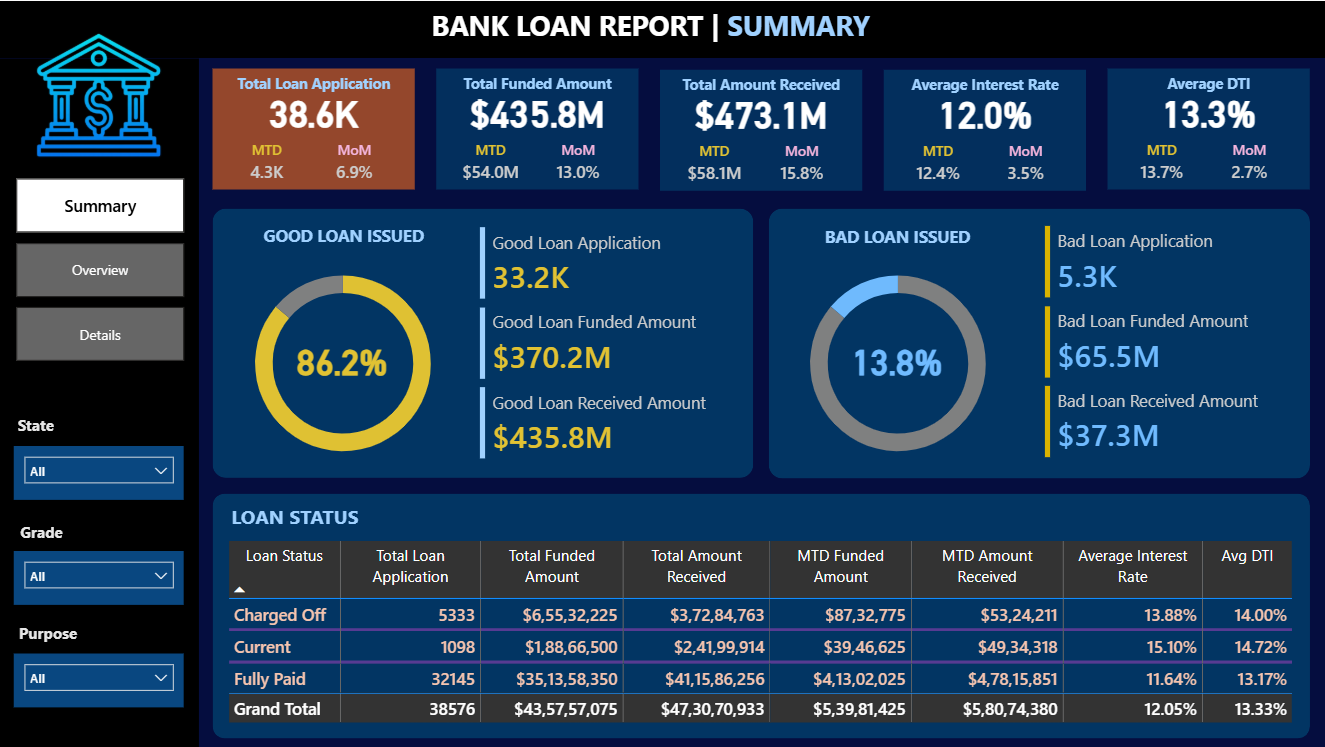

The dashboard page shown, as its layout file describes it:
{"tool":"powerbi","page":{"name":"Summary","canvas":[1280,720],"ordinal":0},"visuals":[{"type":"shape","box":[0,55.5,192,664.7],"z":0},{"type":"shape","box":[0,0,1280.3,55],"z":1000},{"type":"textbox","box":[411.4,0,437.9,55.5],"z":2000},{"type":"shape","box":[205.1,65.1,195.4,117],"z":3000,"group":"g3"},{"type":"shape","box":[421,65.1,195.4,117],"z":3000,"group":"g2"},{"type":"shape","box":[1068.9,65.1,195.4,117],"z":3000,"group":"g6"},{"type":"shape","box":[637,66.4,195.4,117],"z":3000,"group":"g4"},{"type":"shape","box":[853,66.4,195.4,117],"z":3000,"group":"g5"},{"type":"shape","box":[205.1,200.3,522,260],"z":3000},{"type":"card","fields":{"Values":["financial_loan bank_loan_data.Total Loan Application"]},"box":[205.1,79.6,195.4,53.1],"z":4000,"group":"g3"},{"type":"card","fields":{"Values":["financial_loan bank_loan_data.Total Funded Amount"]},"box":[421,79.6,195.4,53.1],"z":4000,"group":"g2"},{"type":"card","fields":{"Values":["financial_loan bank_loan_data.Avg DTI"]},"box":[1068.9,79.6,195.4,53.1],"z":4000,"group":"g6"},{"type":"card","fields":{"Values":["financial_loan bank_loan_data.Total Amount Received"]},"box":[637,80.9,195.4,53.1],"z":4000,"group":"g4"},{"type":"card","fields":{"Values":["financial_loan bank_loan_data.Average Interest Rate"]},"box":[853,80.9,195.4,53.1],"z":4000,"group":"g5"},{"type":"card","fields":{"Values":["financial_loan bank_loan_data.Good Loan %"]},"box":[263,319.7,133.9,53.1],"z":4000},{"type":"group","id":"g1","title":"Group 1","box":[205.1,65.1,195.4,117],"z":5000},{"type":"textbox","box":[218.4,65.1,168.9,29],"z":5000,"group":"g3"},{"type":"textbox","box":[434.3,65.1,168.9,29],"z":5000,"group":"g2"},{"type":"textbox","box":[1082.2,65.1,168.9,29],"z":5000,"group":"g6"},{"type":"textbox","box":[650.3,66.4,168.9,29],"z":5000,"group":"g4"},{"type":"textbox","box":[866.3,66.4,168.9,29],"z":5000,"group":"g5"},{"type":"group","id":"g2","title":"Group 3","box":[421,65.1,195.4,117],"z":6000},{"type":"card","title":"MTD","fields":{"Values":["financial_loan bank_loan_data.MTD Loan Application"]},"box":[218.4,133.9,78.4,48.3],"z":6000,"group":"g3"},{"type":"card","title":"MTD","fields":{"Values":["financial_loan bank_loan_data.MTD Funded Amount"]},"box":[434.3,133.9,78.4,48.3],"z":6000,"group":"g2"},{"type":"card","title":"MTD","fields":{"Values":["financial_loan bank_loan_data.MTD DTI"]},"box":[1082.2,133.9,78.4,48.3],"z":6000,"group":"g6"},{"type":"card","title":"MTD","fields":{"Values":["financial_loan bank_loan_data.MTD Amount Received"]},"box":[650.3,135.2,78.4,48.3],"z":6000,"group":"g4"},{"type":"card","title":"MTD","fields":{"Values":["financial_loan bank_loan_data.MTD Interest rate"]},"box":[866.3,135.2,78.4,48.3],"z":6000,"group":"g5"},{"type":"card","title":"MoM","fields":{"Values":["financial_loan bank_loan_data.MOM Loan Application"]},"box":[302.8,133.9,78.4,48.3],"z":7000,"group":"g3"},{"type":"card","title":"MoM","fields":{"Values":["financial_loan bank_loan_data.MoM Funded Amount"]},"box":[518.7,133.9,78.4,48.3],"z":7000,"group":"g2"},{"type":"card","title":"MoM","fields":{"Values":["financial_loan bank_loan_data.MoM DTI"]},"box":[1166.6,133.9,78.4,48.3],"z":7000,"group":"g6"},{"type":"card","title":"MoM","fields":{"Values":["financial_loan bank_loan_data.MoM Amount Received"]},"box":[734.7,135.2,78.4,48.3],"z":7000,"group":"g4"},{"type":"card","title":"MoM","fields":{"Values":["financial_loan bank_loan_data.MoM Interest Rate"]},"box":[950.7,135.2,78.4,48.3],"z":7000,"group":"g5"},{"type":"textbox","box":[242.5,209.9,178.6,37.4],"z":7000},{"type":"group","id":"g3","title":"Group 2","box":[205.1,65.1,195.4,117],"z":7002,"group":"g1"},{"type":"group","id":"g4","title":"Group 3","box":[637,66.4,195.4,117],"z":8000},{"type":"group","id":"g5","title":"Group 3","box":[853,66.4,195.4,117],"z":9000},{"type":"group","id":"g6","title":"Group 3","box":[1068.9,65.1,195.4,117],"z":10000},{"type":"donutChart","fields":{"Category":["financial_loan bank_loan_data.Good vs Bad Loan"],"Y":["financial_loan bank_loan_data.Total Loan Application"]},"box":[206.3,238.9,249.7,222],"z":11000},{"type":"shape","box":[205.1,475.3,1059.3,236.5],"z":12000},{"type":"shape","box":[742,200.3,522.4,260.6],"z":13000},{"type":"cardVisual","fields":{"Data":["financial_loan bank_loan_data.Good Loan Application","financial_loan bank_loan_data.Good Loan Funded Amount","financial_loan bank_loan_data.Good Loan Received Amount"]},"box":[446.4,201.5,275.1,259.4],"z":14000},{"type":"donutChart","fields":{"Category":["financial_loan bank_loan_data.Good vs Bad Loan"],"Y":["financial_loan bank_loan_data.Total Loan Application"]},"box":[742,238.9,249.7,222],"z":15000},{"type":"card","fields":{"Values":["financial_loan bank_loan_data.Bad Loan %"]},"box":[798.7,319.7,133.9,53.1],"z":16000},{"type":"cardVisual","fields":{"Data":["financial_loan bank_loan_data.Bad Loan Application","financial_loan bank_loan_data.Bad Loan Funded Amount","financial_loan bank_loan_data.Bad Loan Received Amount"]},"box":[991.7,200.3,275.1,259.4],"z":17000},{"type":"textbox","box":[776.9,211.1,178.6,37.4],"z":18000},{"type":"tableEx","fields":{"Values":["financial_loan bank_loan_data.loan_status","financial_loan bank_loan_data.Total Loan Application","financial_loan bank_loan_data.Total Funded Amount","financial_loan bank_loan_data.Total Amount Received","financial_loan bank_loan_data.MTD Funded Amount","financial_loan bank_loan_data.MTD Amount Received","financial_loan bank_loan_data.Average Interest Rate","financial_loan bank_loan_data.Avg DTI"]},"box":[214.7,516.4,1038.7,203.9],"z":19000},{"type":"textbox","box":[208.7,480.2,152,37.4],"z":20000},{"type":"slicer","fields":{"Values":["financial_loan bank_loan_data.address_state"]},"box":[13.5,429.3,164.1,51.9],"z":21000},{"type":"textbox","box":[12.3,394.3,63.9,35],"z":22000},{"type":"slicer","fields":{"Values":["financial_loan bank_loan_data.grade"]},"box":[13.3,530.8,164.1,51.9],"z":23000},{"type":"textbox","box":[14.5,497.5,63.9,35],"z":24000},{"type":"slicer","fields":{"Values":["financial_loan bank_loan_data.purpose"]},"box":[13.3,630.2,164.1,51.9],"z":25000},{"type":"textbox","box":[13.3,595.3,82,35],"z":26000},{"type":"pageNavigator","box":[15.7,171.3,162.9,176.1],"z":27000},{"type":"image","box":[25.3,27.7,139.9,126.7],"z":28000}]}

Visuals, with their boxes in screenshot pixels (x1, y1, x2, y2), scaled from the page's 1280x720 canvas onto the 1325x747 screenshot:
shape: {"x1": 0, "y1": 58, "x2": 199, "y2": 746}
shape: {"x1": 0, "y1": 0, "x2": 1324, "y2": 57}
textbox: {"x1": 426, "y1": 0, "x2": 879, "y2": 58}
shape: {"x1": 212, "y1": 68, "x2": 415, "y2": 189}
shape: {"x1": 436, "y1": 68, "x2": 638, "y2": 189}
shape: {"x1": 1106, "y1": 68, "x2": 1309, "y2": 189}
shape: {"x1": 659, "y1": 69, "x2": 862, "y2": 190}
shape: {"x1": 883, "y1": 69, "x2": 1085, "y2": 190}
shape: {"x1": 212, "y1": 208, "x2": 753, "y2": 478}
card - financial_loan bank_loan_data.Total Loan Application: {"x1": 212, "y1": 83, "x2": 415, "y2": 138}
card - financial_loan bank_loan_data.Total Funded Amount: {"x1": 436, "y1": 83, "x2": 638, "y2": 138}
card - financial_loan bank_loan_data.Avg DTI: {"x1": 1106, "y1": 83, "x2": 1309, "y2": 138}
card - financial_loan bank_loan_data.Total Amount Received: {"x1": 659, "y1": 84, "x2": 862, "y2": 139}
card - financial_loan bank_loan_data.Average Interest Rate: {"x1": 883, "y1": 84, "x2": 1085, "y2": 139}
card - financial_loan bank_loan_data.Good Loan %: {"x1": 272, "y1": 332, "x2": 411, "y2": 387}
"Group 1" group: {"x1": 212, "y1": 68, "x2": 415, "y2": 189}
textbox: {"x1": 226, "y1": 68, "x2": 401, "y2": 98}
textbox: {"x1": 450, "y1": 68, "x2": 624, "y2": 98}
textbox: {"x1": 1120, "y1": 68, "x2": 1295, "y2": 98}
textbox: {"x1": 673, "y1": 69, "x2": 848, "y2": 99}
textbox: {"x1": 897, "y1": 69, "x2": 1072, "y2": 99}
"Group 3" group: {"x1": 436, "y1": 68, "x2": 638, "y2": 189}
"MTD" card: {"x1": 226, "y1": 139, "x2": 307, "y2": 189}
"MTD" card: {"x1": 450, "y1": 139, "x2": 531, "y2": 189}
"MTD" card: {"x1": 1120, "y1": 139, "x2": 1201, "y2": 189}
"MTD" card: {"x1": 673, "y1": 140, "x2": 754, "y2": 190}
"MTD" card: {"x1": 897, "y1": 140, "x2": 978, "y2": 190}
"MoM" card: {"x1": 313, "y1": 139, "x2": 395, "y2": 189}
"MoM" card: {"x1": 537, "y1": 139, "x2": 618, "y2": 189}
"MoM" card: {"x1": 1208, "y1": 139, "x2": 1289, "y2": 189}
"MoM" card: {"x1": 761, "y1": 140, "x2": 842, "y2": 190}
"MoM" card: {"x1": 984, "y1": 140, "x2": 1065, "y2": 190}
textbox: {"x1": 251, "y1": 218, "x2": 436, "y2": 257}
"Group 2" group: {"x1": 212, "y1": 68, "x2": 415, "y2": 189}
"Group 3" group: {"x1": 659, "y1": 69, "x2": 862, "y2": 190}
"Group 3" group: {"x1": 883, "y1": 69, "x2": 1085, "y2": 190}
"Group 3" group: {"x1": 1106, "y1": 68, "x2": 1309, "y2": 189}
donutChart - financial_loan bank_loan_data.Good vs Bad Loan x financial_loan bank_loan_data.Total Loan Application: {"x1": 214, "y1": 248, "x2": 472, "y2": 478}
shape: {"x1": 212, "y1": 493, "x2": 1309, "y2": 738}
shape: {"x1": 768, "y1": 208, "x2": 1309, "y2": 478}
cardVisual - financial_loan bank_loan_data.Good Loan Application x financial_loan bank_loan_data.Good Loan Funded Amount: {"x1": 462, "y1": 209, "x2": 747, "y2": 478}
donutChart - financial_loan bank_loan_data.Good vs Bad Loan x financial_loan bank_loan_data.Total Loan Application: {"x1": 768, "y1": 248, "x2": 1027, "y2": 478}
card - financial_loan bank_loan_data.Bad Loan %: {"x1": 827, "y1": 332, "x2": 965, "y2": 387}
cardVisual - financial_loan bank_loan_data.Bad Loan Application x financial_loan bank_loan_data.Bad Loan Funded Amount: {"x1": 1027, "y1": 208, "x2": 1311, "y2": 477}
textbox: {"x1": 804, "y1": 219, "x2": 989, "y2": 258}
tableEx - financial_loan bank_loan_data.loan_status x financial_loan bank_loan_data.Total Loan Application: {"x1": 222, "y1": 536, "x2": 1297, "y2": 746}
textbox: {"x1": 216, "y1": 498, "x2": 373, "y2": 537}
slicer - financial_loan bank_loan_data.address_state: {"x1": 14, "y1": 445, "x2": 184, "y2": 499}
textbox: {"x1": 13, "y1": 409, "x2": 79, "y2": 445}
slicer - financial_loan bank_loan_data.grade: {"x1": 14, "y1": 551, "x2": 184, "y2": 605}
textbox: {"x1": 15, "y1": 516, "x2": 81, "y2": 552}
slicer - financial_loan bank_loan_data.purpose: {"x1": 14, "y1": 654, "x2": 184, "y2": 708}
textbox: {"x1": 14, "y1": 618, "x2": 99, "y2": 654}
pageNavigator: {"x1": 16, "y1": 178, "x2": 185, "y2": 360}
image: {"x1": 26, "y1": 29, "x2": 171, "y2": 160}
